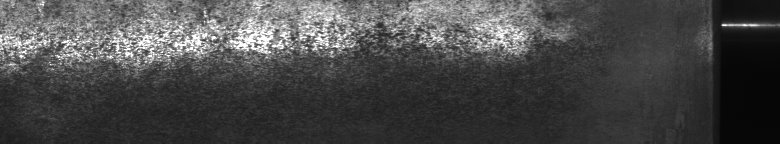kb: (4, 4, 544, 88)
